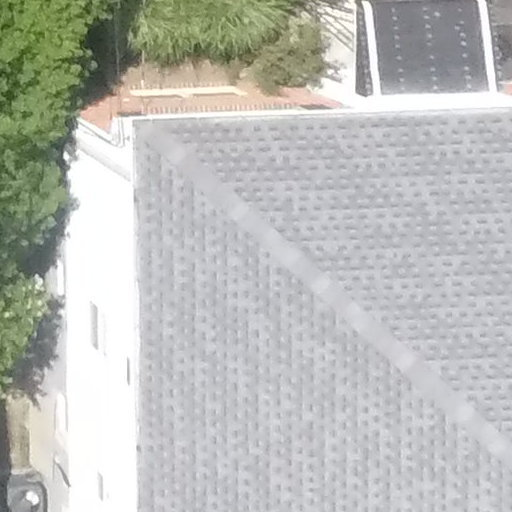air conditioner: (7, 468, 48, 512)
